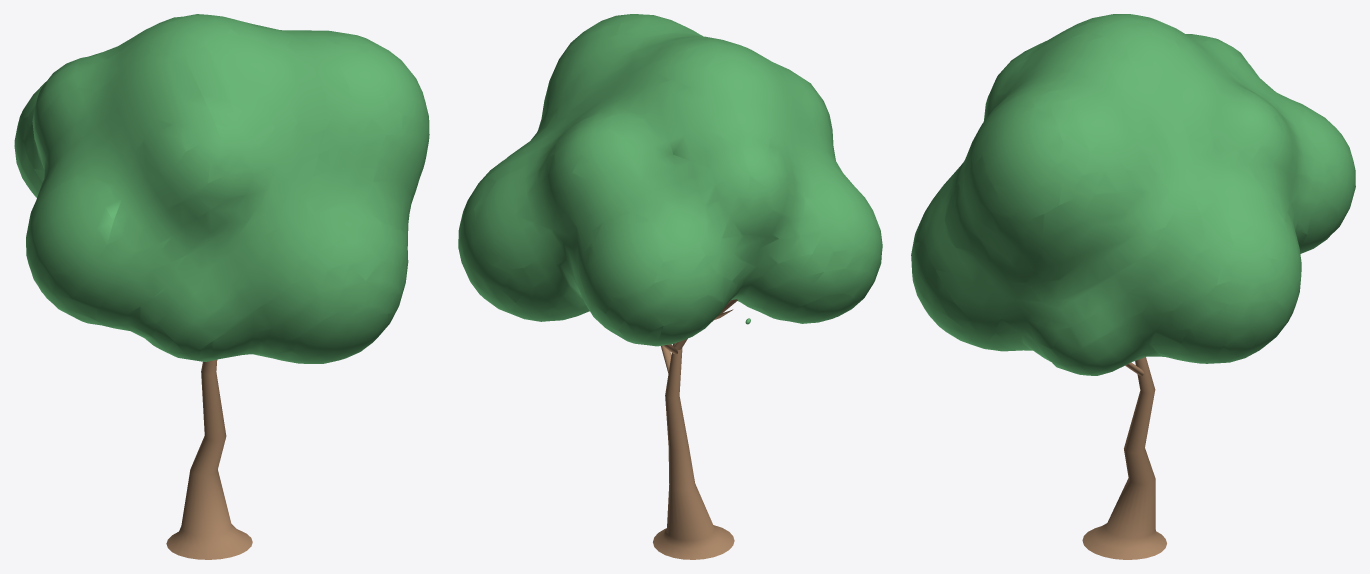
Rendered from Cartoon_Trees_Pack_Tree_8.glb.
The picture shows the model from 3 angles, left to right: view 1: azimuth 30°, elevation 25°; view 2: azimuth 150°, elevation 25°; view 3: azimuth 270°, elevation 25°; orthographic projection. The views are drawn at different scales.
Visible parts, largest first — view 1: 02_Leaves, 01_Trunk; view 2: 02_Leaves, 01_Trunk; view 3: 02_Leaves, 01_Trunk.
Part boxes in pixels (x1,y1,x2,y2): 02_Leaves: (14, 14, 429, 363); 01_Trunk: (166, 359, 252, 559); 02_Leaves: (458, 14, 882, 346); 01_Trunk: (653, 299, 737, 559); 02_Leaves: (911, 14, 1355, 375); 01_Trunk: (1082, 357, 1166, 559).
Size of the model in its own units: 7.43 by 10 by 7.82.
